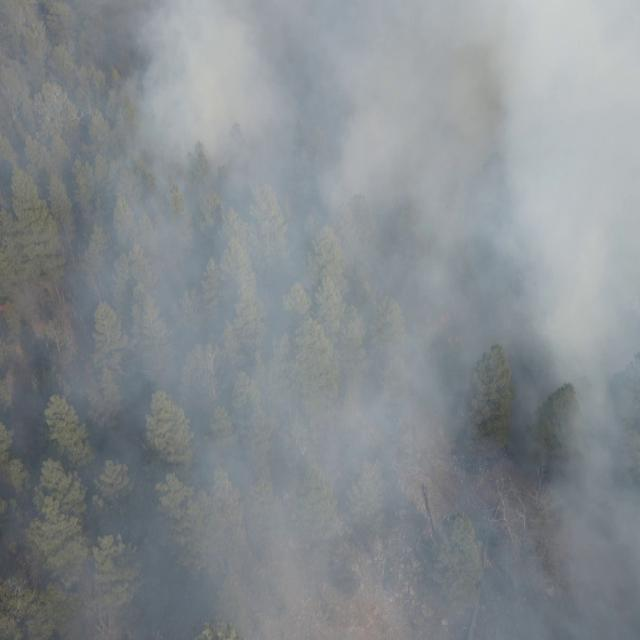fire: (0, 302, 6, 313)
smoke: (0, 0, 640, 640)
